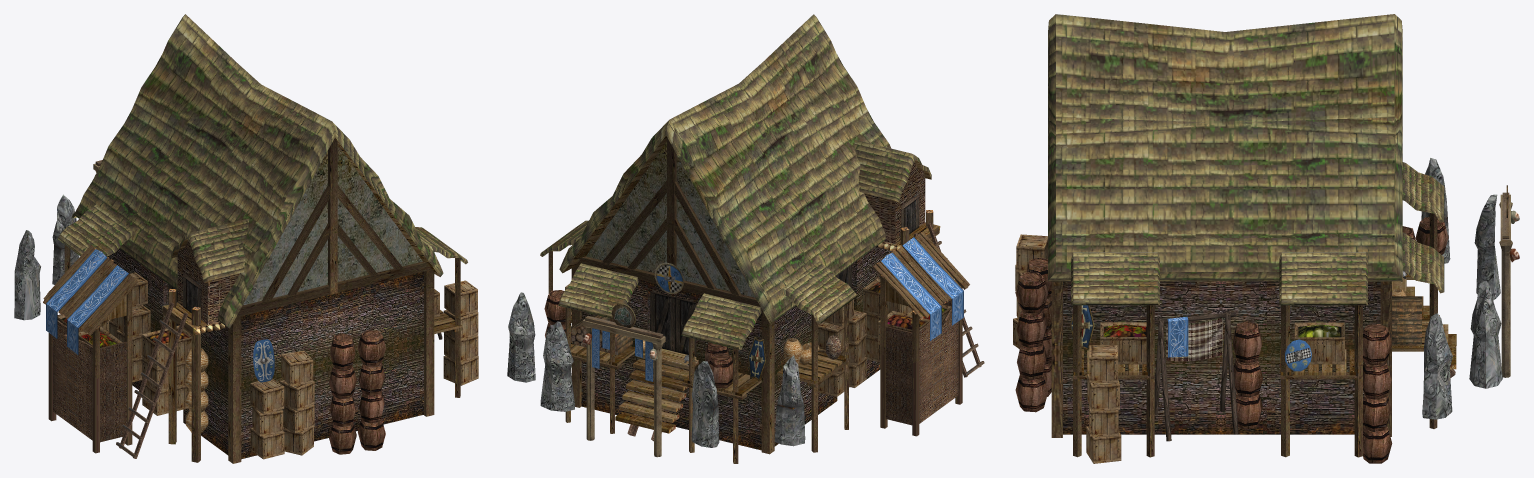
The model's file is gaul_town_center.glb.
3 renders of one model, left to right at view 1: azimuth 30°, elevation 25°; view 2: azimuth 150°, elevation 25°; view 3: azimuth 270°, elevation 25°, orthographic. The views are drawn at different scales.
Parts seen in each view (by area): view 1: gaul_town_center_part0, gaul_town_center_part2, gaul_town_center_part3; view 2: gaul_town_center_part0, gaul_town_center_part2, gaul_town_center_part4, gaul_town_center_part3; view 3: gaul_town_center_part0, gaul_town_center_part2, gaul_town_center_part3, gaul_town_center_part4.
Boxes of the visible parts, box(x1,y1,x2,y2) form: gaul_town_center_part0: box(14, 14, 467, 463); gaul_town_center_part2: box(46, 249, 478, 459); gaul_town_center_part3: box(95, 174, 442, 382); gaul_town_center_part0: box(507, 14, 969, 463); gaul_town_center_part2: box(544, 193, 984, 441); gaul_town_center_part4: box(582, 316, 665, 457); gaul_town_center_part3: box(583, 262, 840, 380); gaul_town_center_part0: box(1048, 14, 1502, 457); gaul_town_center_part2: box(1013, 217, 1455, 463); gaul_town_center_part3: box(1070, 185, 1519, 441); gaul_town_center_part4: box(1499, 192, 1512, 377).
Size of the model in its own units: 5.98 by 5.09 by 6.2.
Materials: 5 (5 with a texture image).
